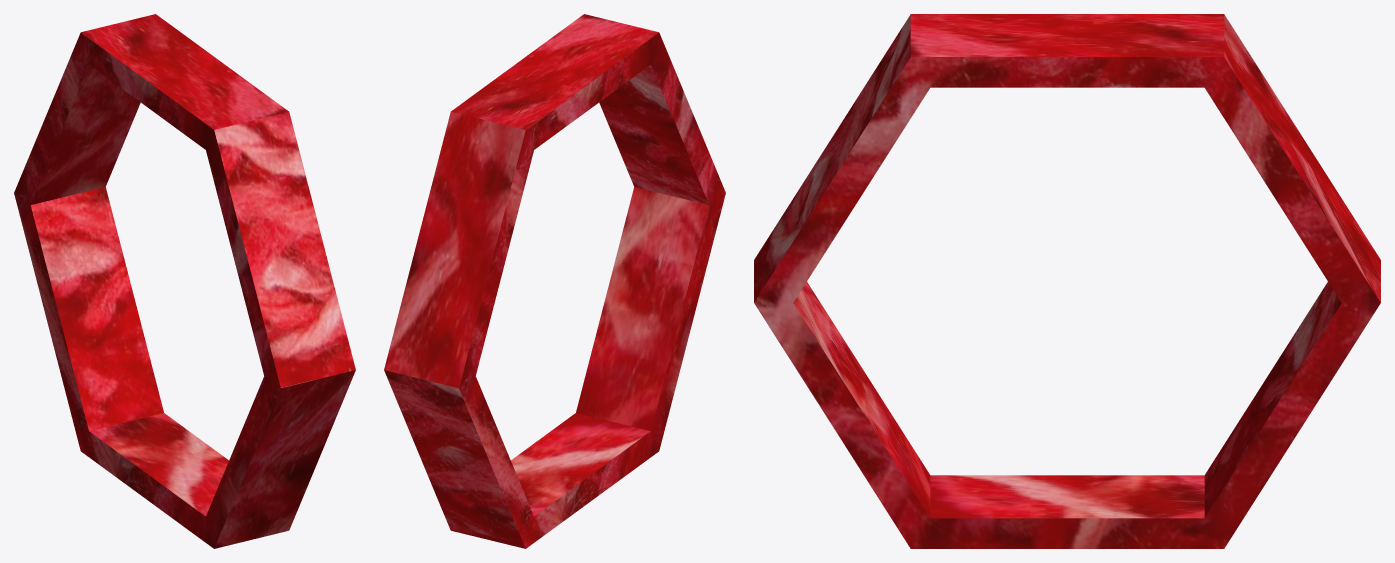
The model's file is polygon_gate.dae.
3 views of the same model, side by side, from view 1: azimuth 30°, elevation 25°; view 2: azimuth 150°, elevation 25°; view 3: azimuth 270°, elevation 25° (orthographic). The views are drawn at different scales.
Visible parts, largest first — view 1: _c346960f72c2715eaac1c45; view 2: _c346960f72c2715eaac1c45; view 3: _c346960f72c2715eaac1c45.
Boxes of the visible parts, <box> form: _c346960f72c2715eaac1c45: <box>14,14,355,548</box>; _c346960f72c2715eaac1c45: <box>384,14,725,548</box>; _c346960f72c2715eaac1c45: <box>754,14,1380,548</box>.
Bounding box in the file's own units: 0.3 × 1.85 × 1.6.
